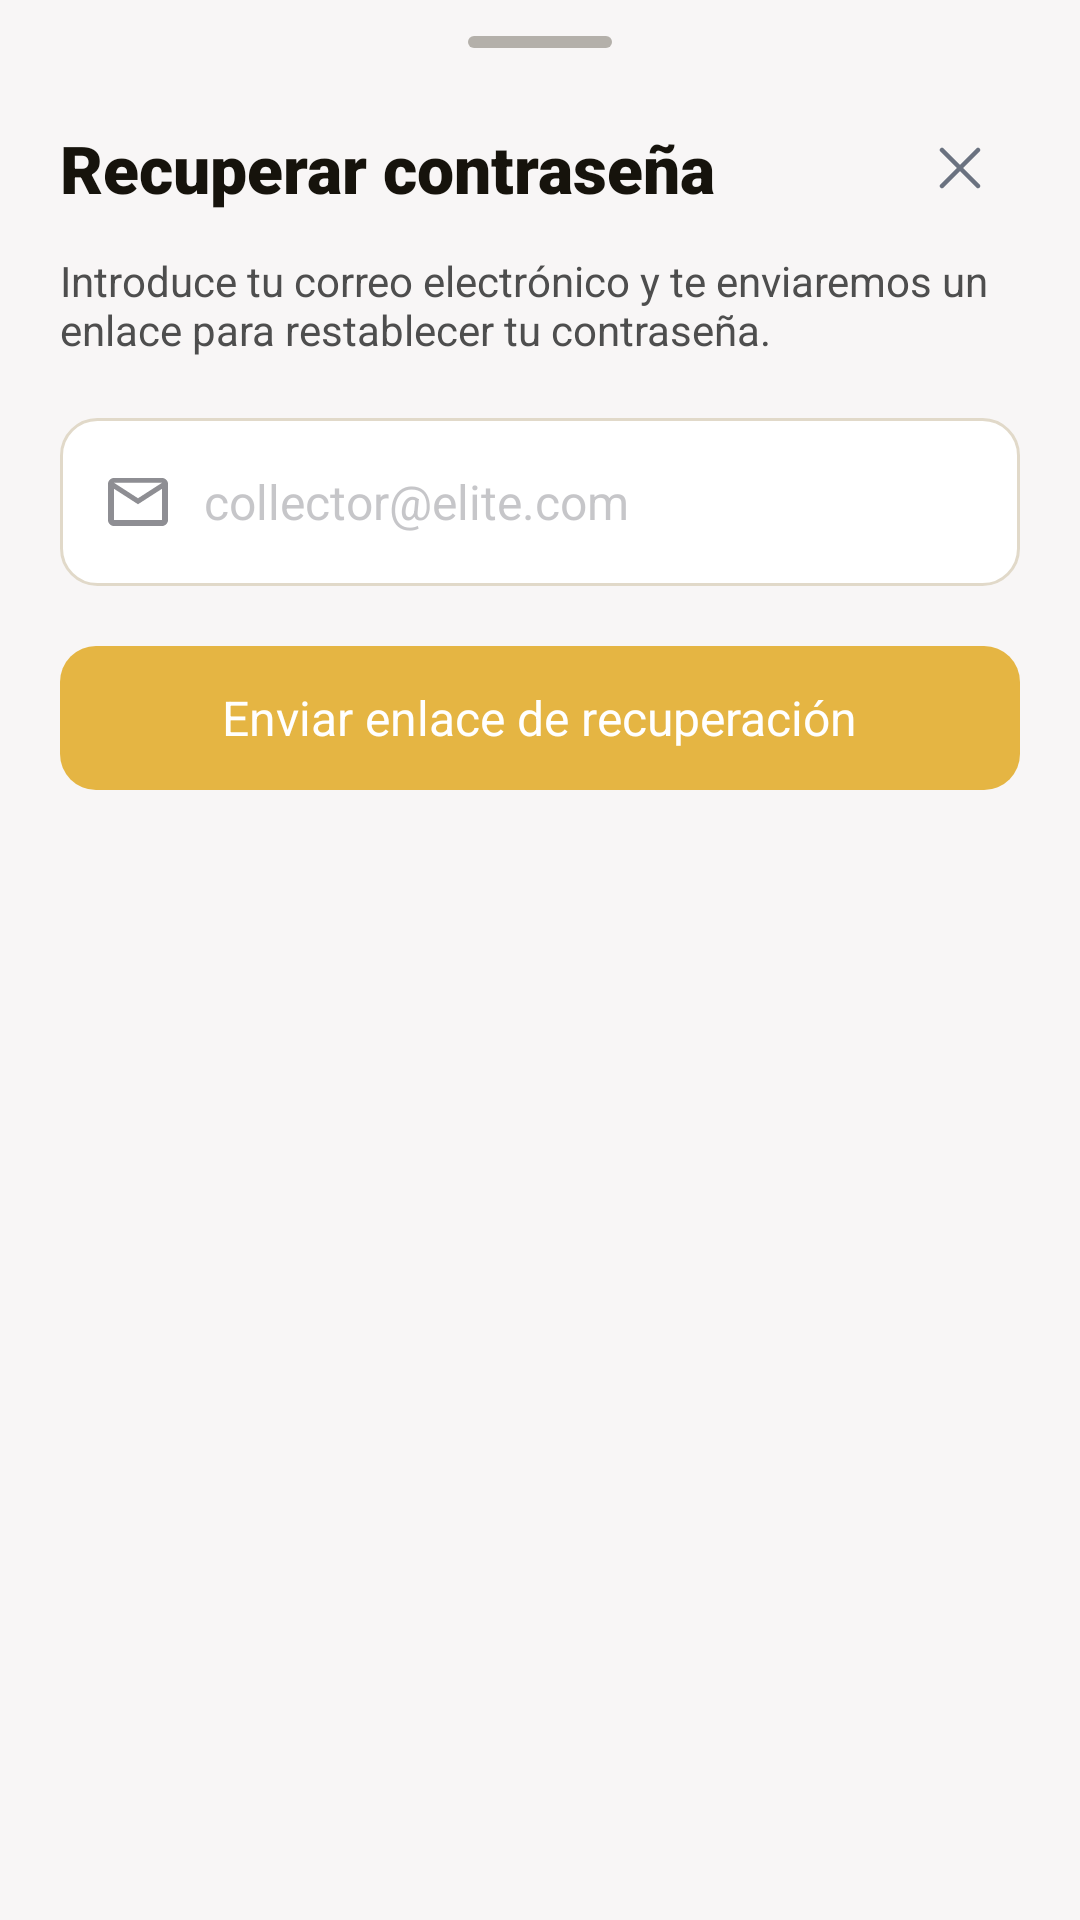

Icon click points for this 1080x1920 phone screenshot, format (x,y):
mail: (138,502)
